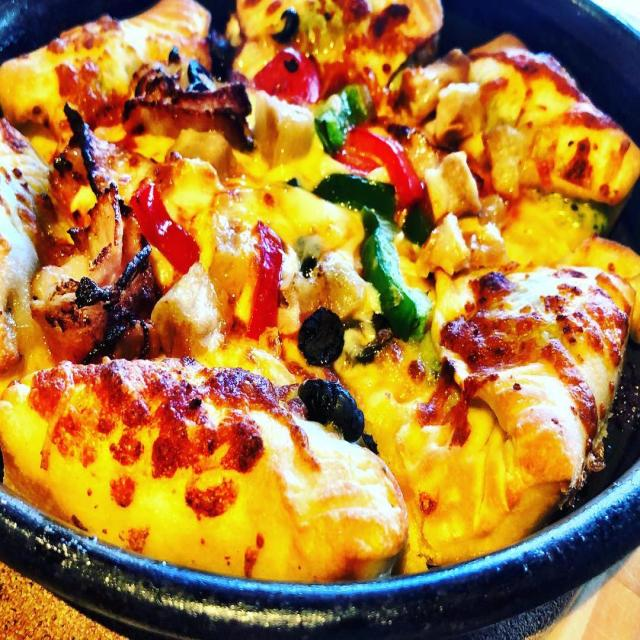black_olives: (300, 373, 365, 437), (298, 304, 342, 367), (276, 5, 298, 42)
peppers: (363, 203, 441, 339), (133, 180, 196, 268), (353, 125, 424, 202), (256, 45, 319, 111), (250, 222, 280, 332)
pizza: (0, 0, 640, 583)
